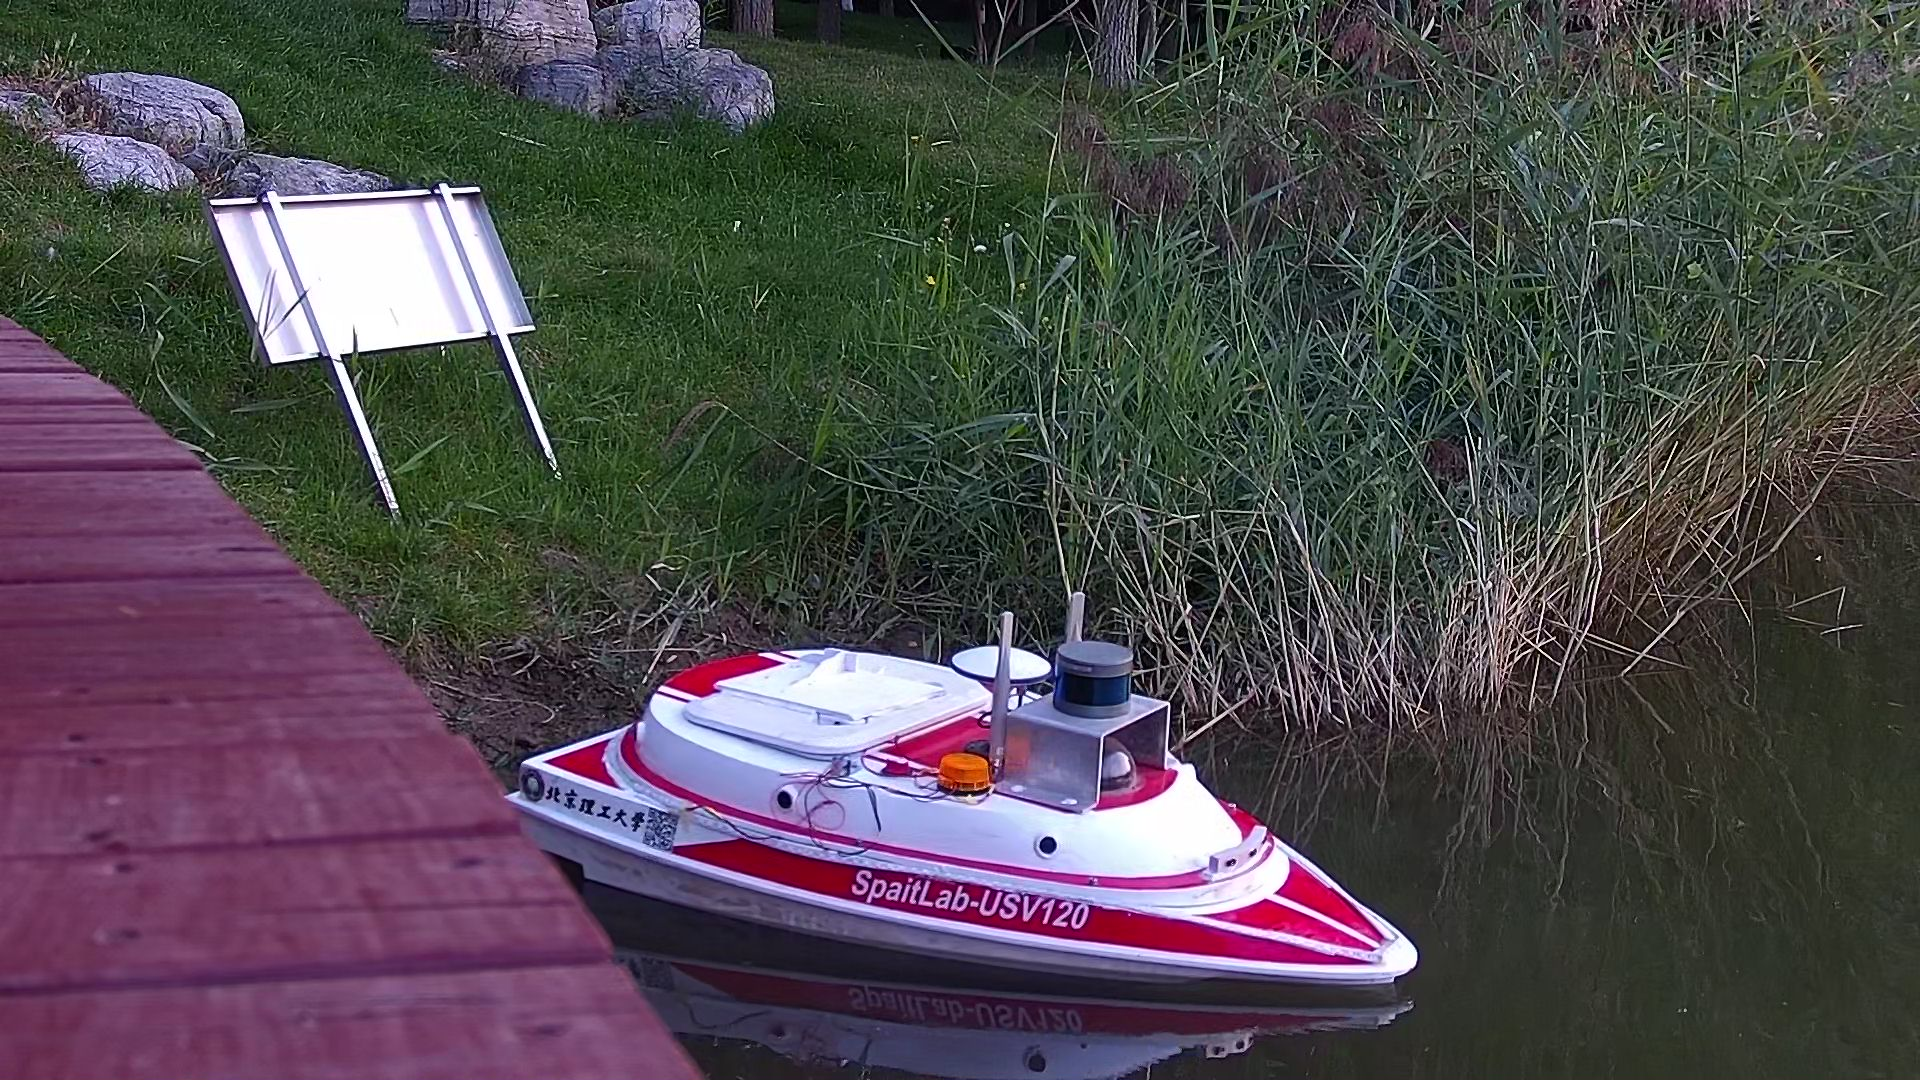boat: (500, 618, 1428, 1044)
